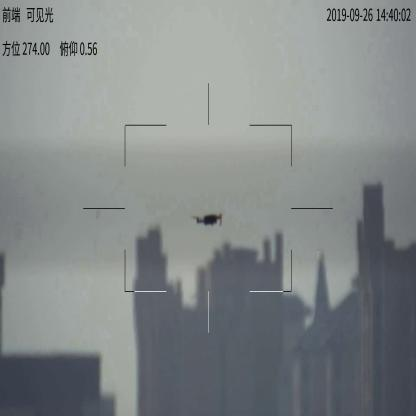uav: (191, 211, 227, 228)
